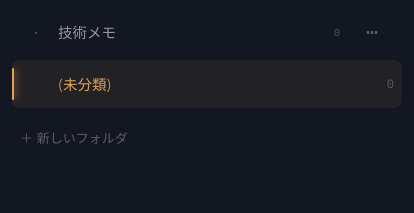
Test: FolderTree actions › opens mobile overlaid glyph actions and starts renaming
The width and height of the screenshot is (414, 213).
Click the button named "フォルダ操作".
click(372, 32)  # box [350,10,394,54]
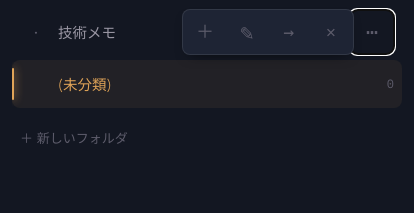
Click the button named "フォルダ操作".
click(372, 32)  # box [350,10,394,54]
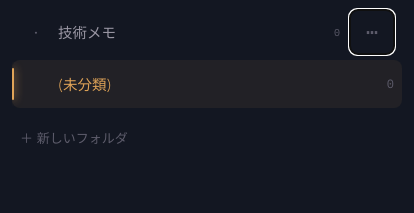
Check: the element "技術メモの操作" is gone
Click the button named "フォルダ操作".
click(372, 32)  # box [350,10,394,54]
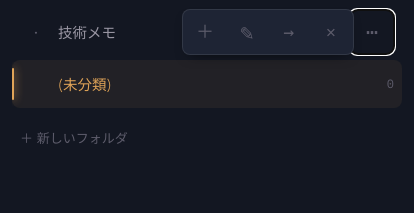
Click the button named "リネーム".
click(247, 32)  # box [227,12,267,52]
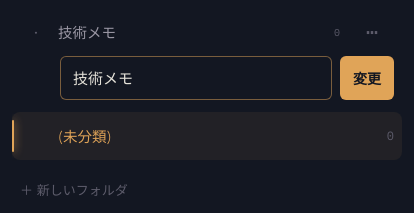
Check: the element "技術メモの操作" is gone
Check: the field named "フォルダ名" holds "技術メモ", box [60,56,332,100]
